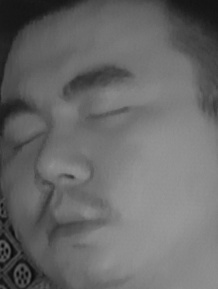blink: (82, 97, 132, 132), (11, 122, 47, 154)
mouth: (36, 195, 110, 247)
